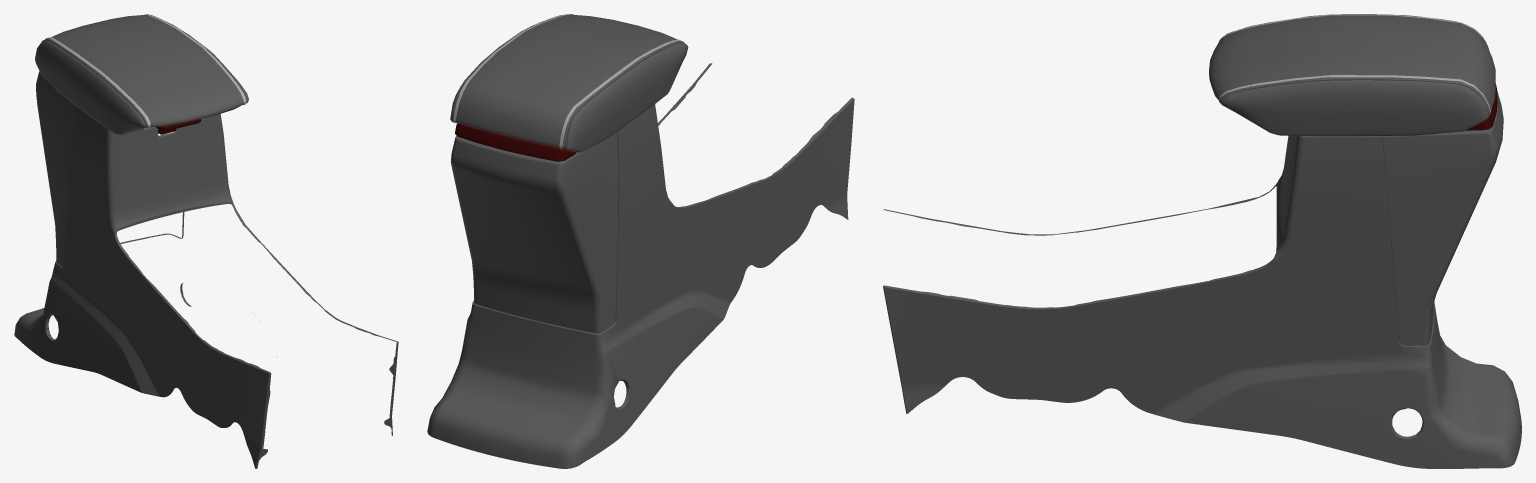
The model's file is TOYOTA_URBAN_CRUISER_PRE_IN_CENTERCONSOLE_ARMREST_STORAGE_MESH.glb.
The picture shows the model from 3 angles, left to right: view 1: azimuth 30°, elevation 25°; view 2: azimuth 150°, elevation 25°; view 3: azimuth 270°, elevation 25°; orthographic projection. The views are drawn at different scales.
Visible parts, largest first — view 1: TOYOTA_URBAN_CRUISER_PRE_IN_CENTERCONSOLE_ARMREST_STORAGE_ME; view 2: TOYOTA_URBAN_CRUISER_PRE_IN_CENTERCONSOLE_ARMREST_STORAGE_ME; view 3: TOYOTA_URBAN_CRUISER_PRE_IN_CENTERCONSOLE_ARMREST_STORAGE_ME.
Part boxes in pixels (x1,y1,x2,y2): TOYOTA_URBAN_CRUISER_PRE_IN_CENTERCONSOLE_ARMREST_STORAGE_ME: (14,14,398,468); TOYOTA_URBAN_CRUISER_PRE_IN_CENTERCONSOLE_ARMREST_STORAGE_ME: (427,14,854,468); TOYOTA_URBAN_CRUISER_PRE_IN_CENTERCONSOLE_ARMREST_STORAGE_ME: (883,14,1521,468).
Bounding box in the file's own units: 0.1927 × 0.4016 × 0.6004.
